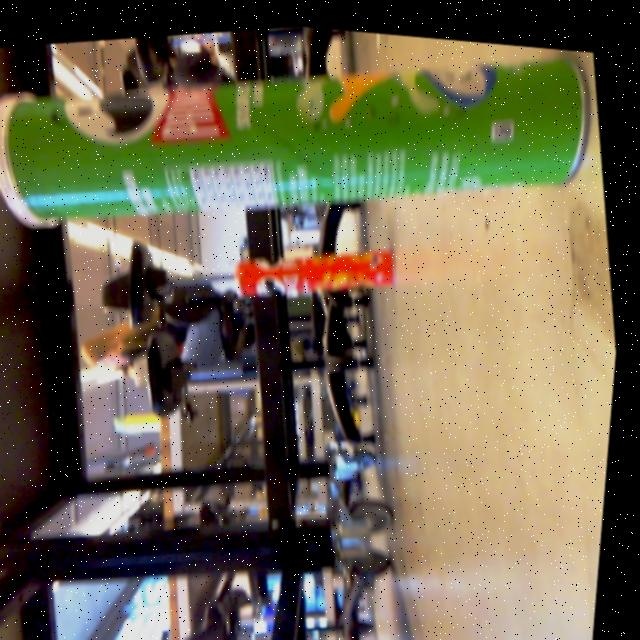greenpringles: (0, 0, 615, 283)
redpringles: (209, 212, 424, 320)
